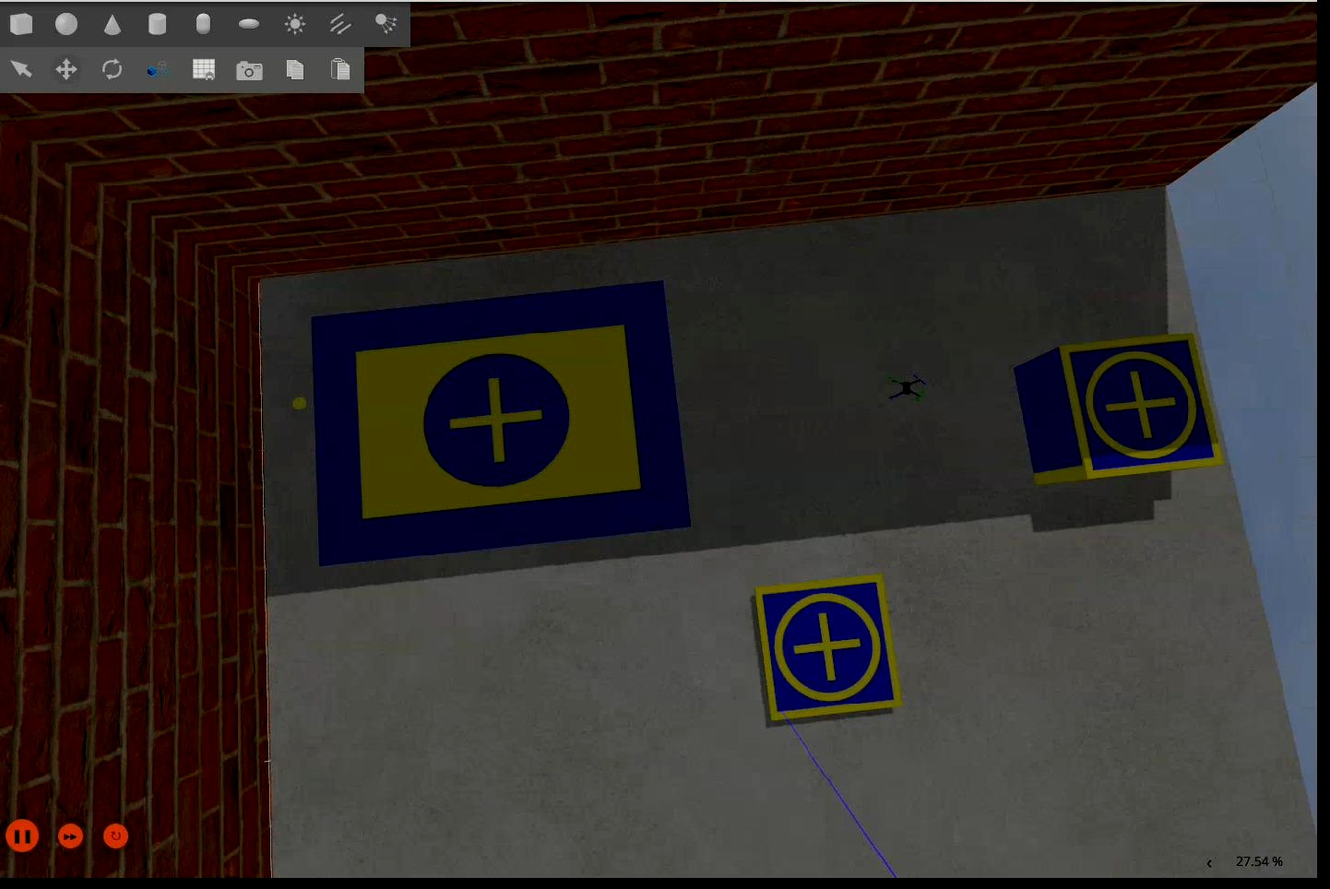large_base: (303, 280, 695, 571)
small_base: (1053, 334, 1229, 486), (754, 575, 901, 727)
